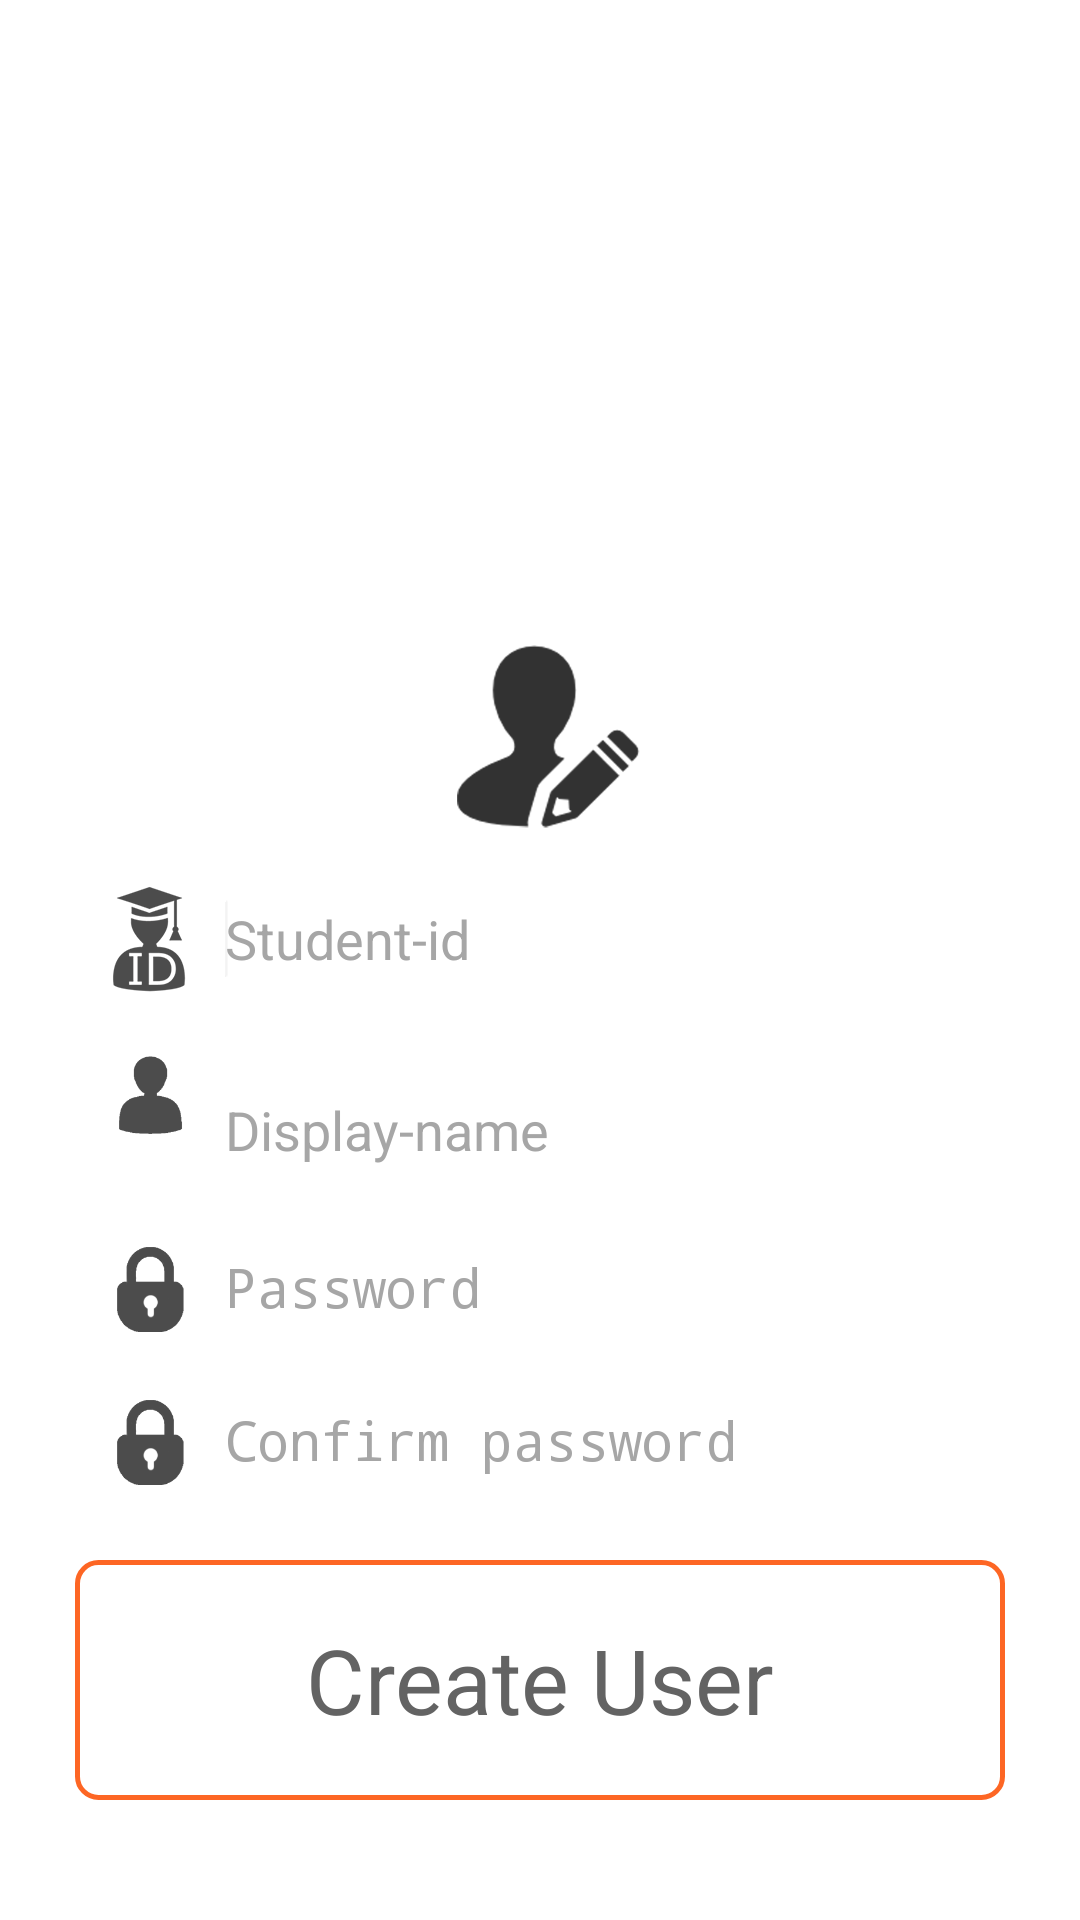

Where to tap for icons on this 1080px x 1920px app screen, as (x,y):
createuser: (548,736)
user: (150,1095)
